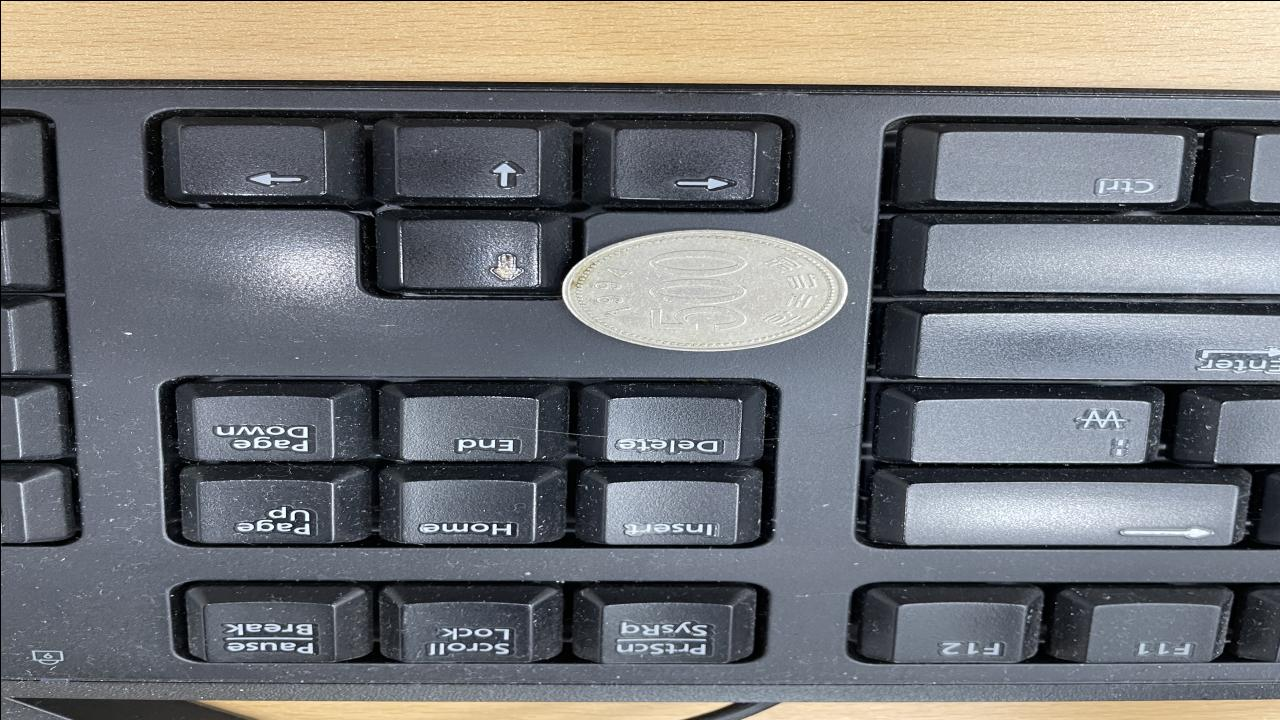coin: (560, 231, 848, 350)
